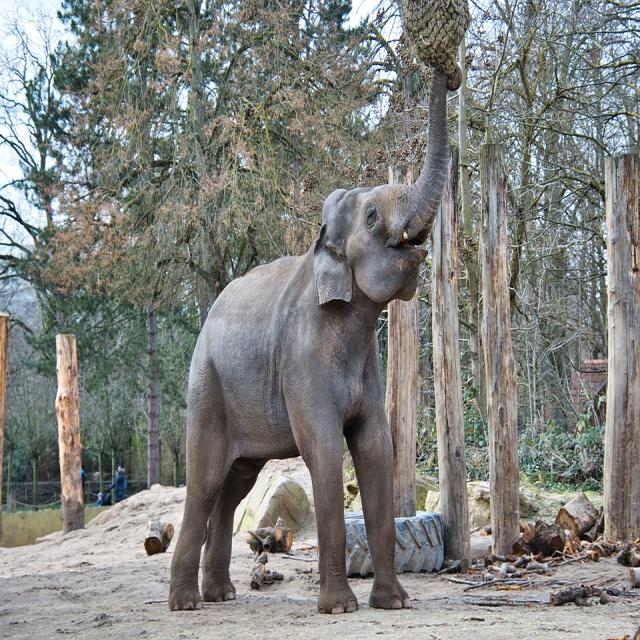Elephant: (167, 56, 455, 615)
person: (108, 464, 126, 503)
